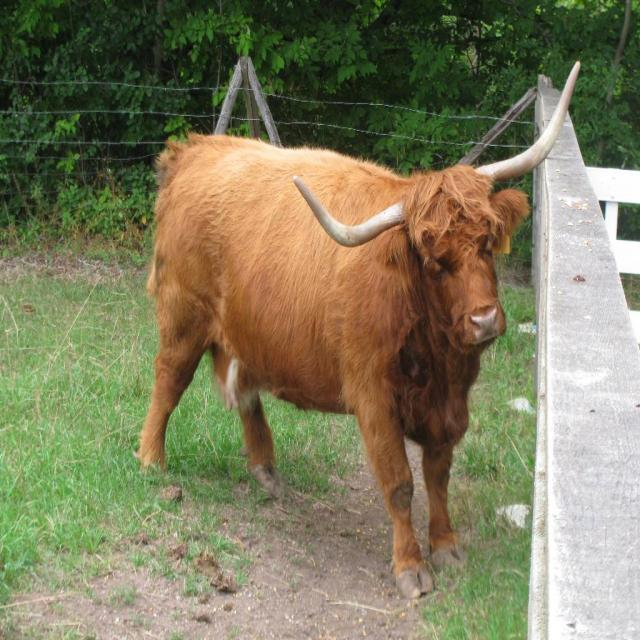Bull: (136, 59, 582, 598)
